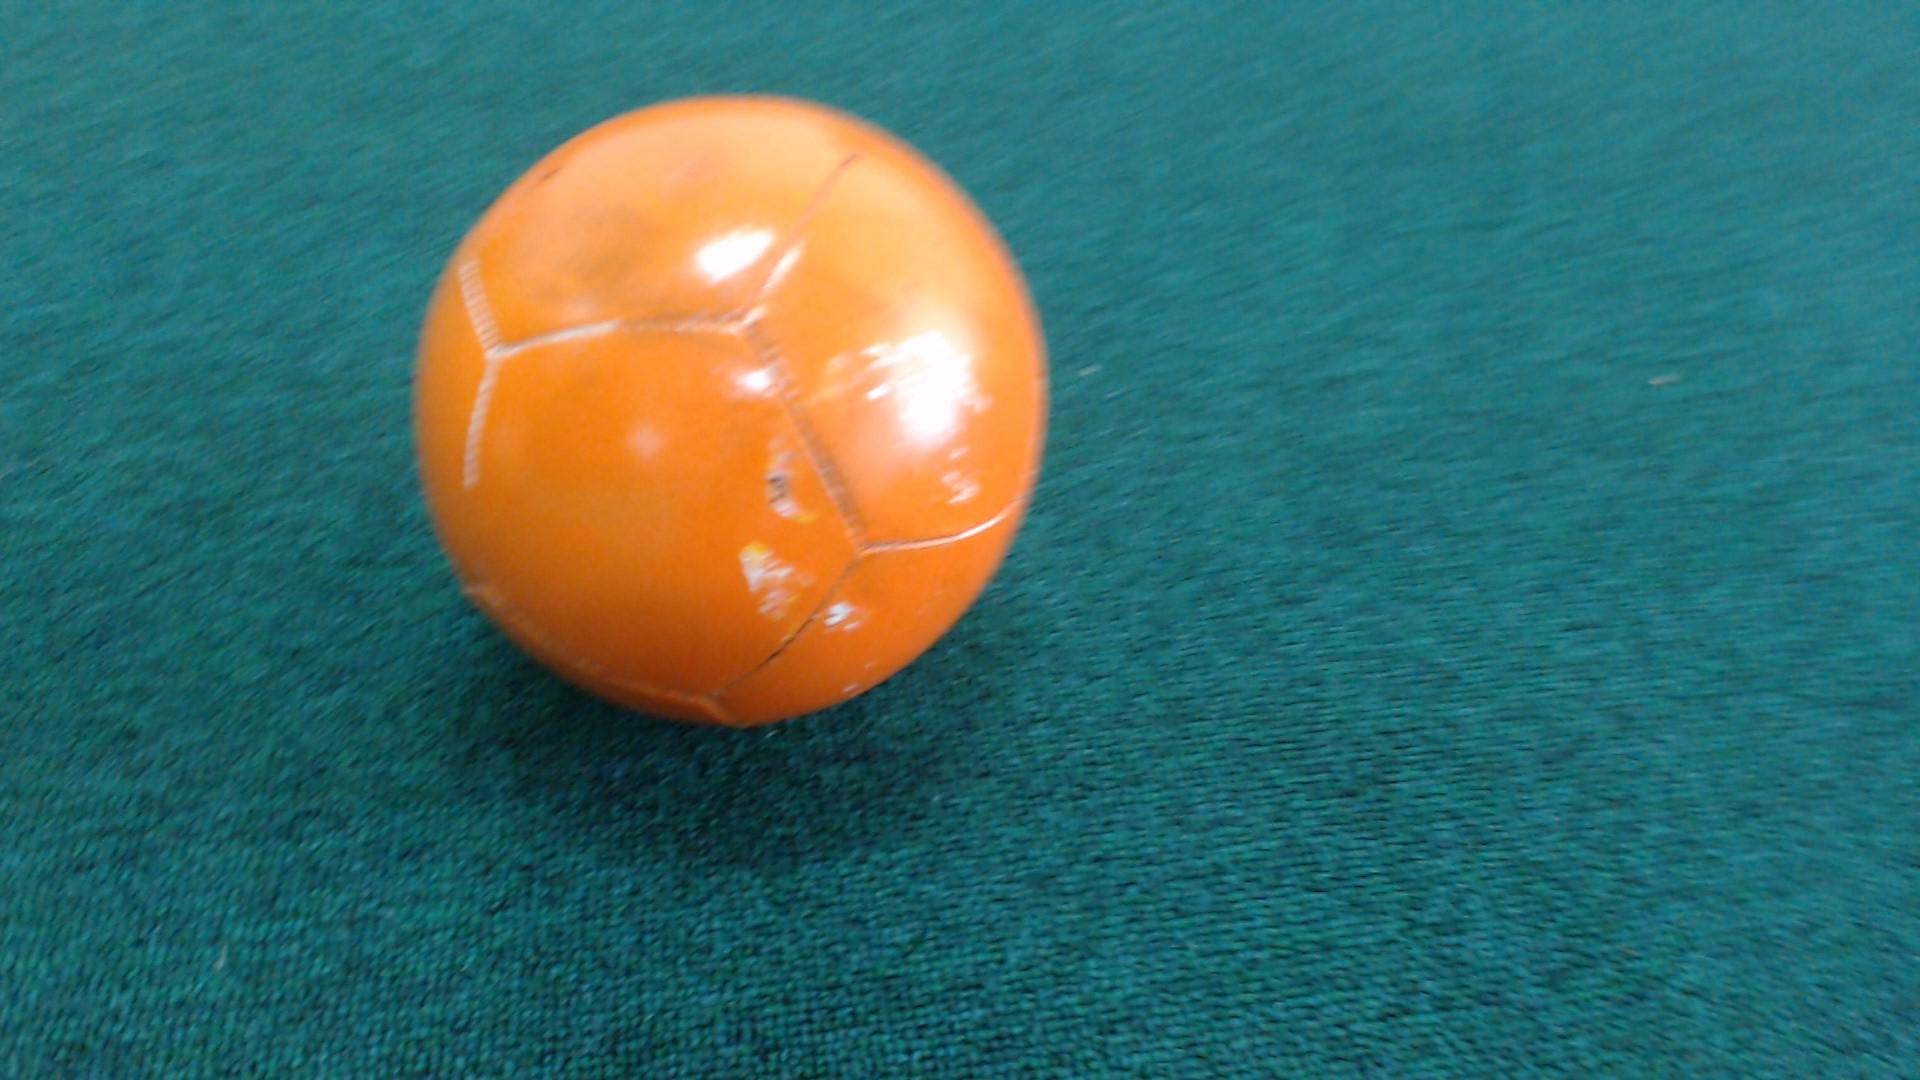bola: (394, 49, 1102, 748)
